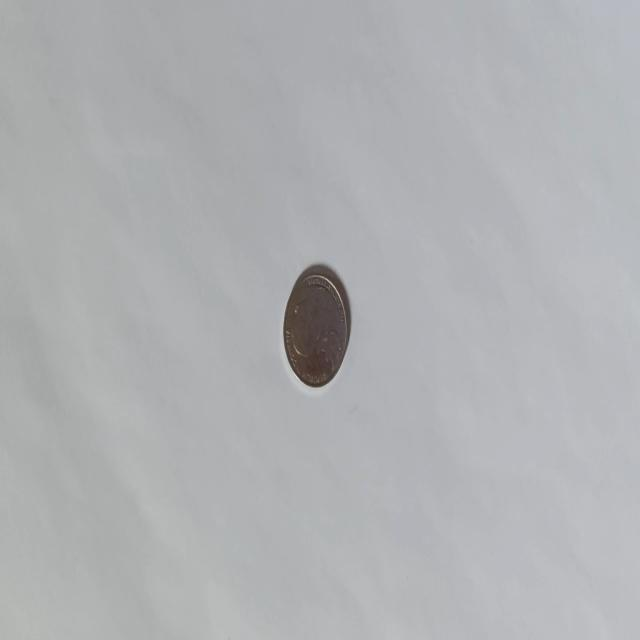seribu rupiah koin: (282, 264, 350, 389)
